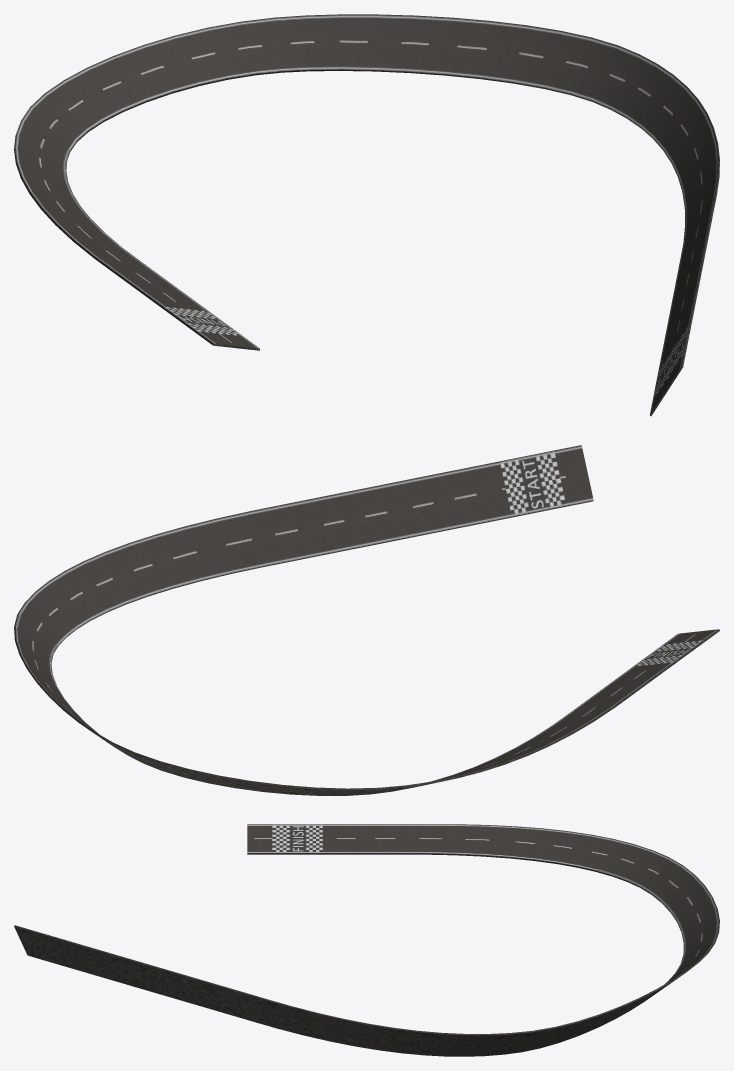
The model's file is TrackLevel004.FBX.
The picture shows the model from 3 angles, top to bottom: view 1: azimuth 30°, elevation 25°; view 2: azimuth 150°, elevation 25°; view 3: azimuth 270°, elevation 25°; orthographic projection. The views are drawn at different scales.
Parts seen in each view (by area): view 1: Track004; view 2: Track004; view 3: Track004.
Boxes of the visible parts, x1,y1,x2,y2 form: Track004: [14, 14, 719, 416]; Track004: [14, 445, 719, 795]; Track004: [14, 824, 719, 1056].
Bounding box in the file's own units: 2503 × 203 × 3387.
